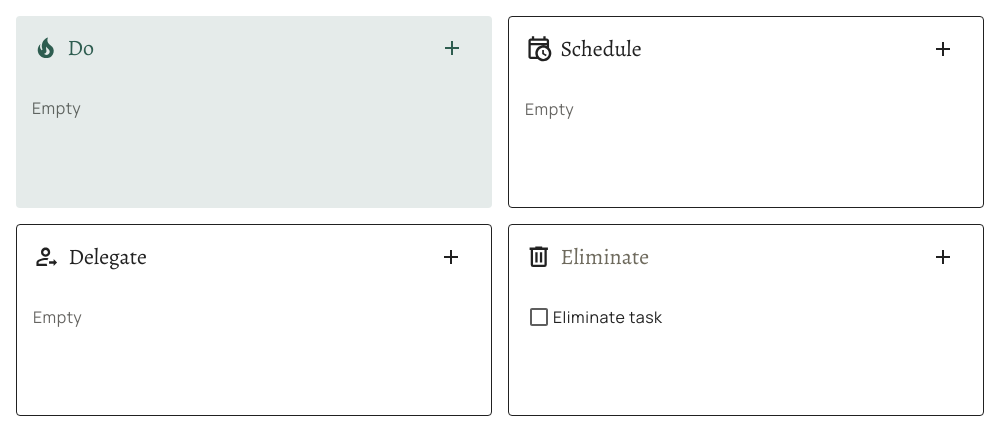
Scenario: MatrixBoard › closes a task with Status.Done when its checkbox is checked, and it leaves the quadrant
This screenshot has width=1001, height=433.
Click the checkbox named "Done: Eliminate task": (539, 317) [525,303,553,331]
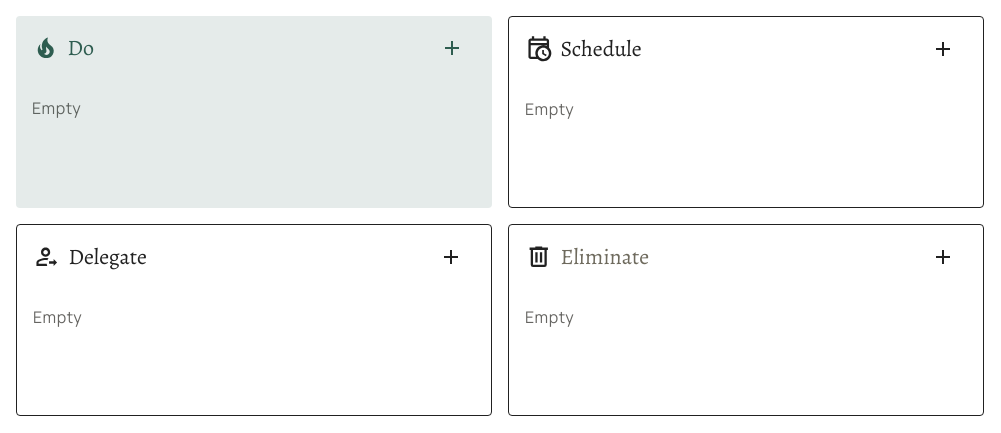
Expected: the text "Eliminate task" is gone
